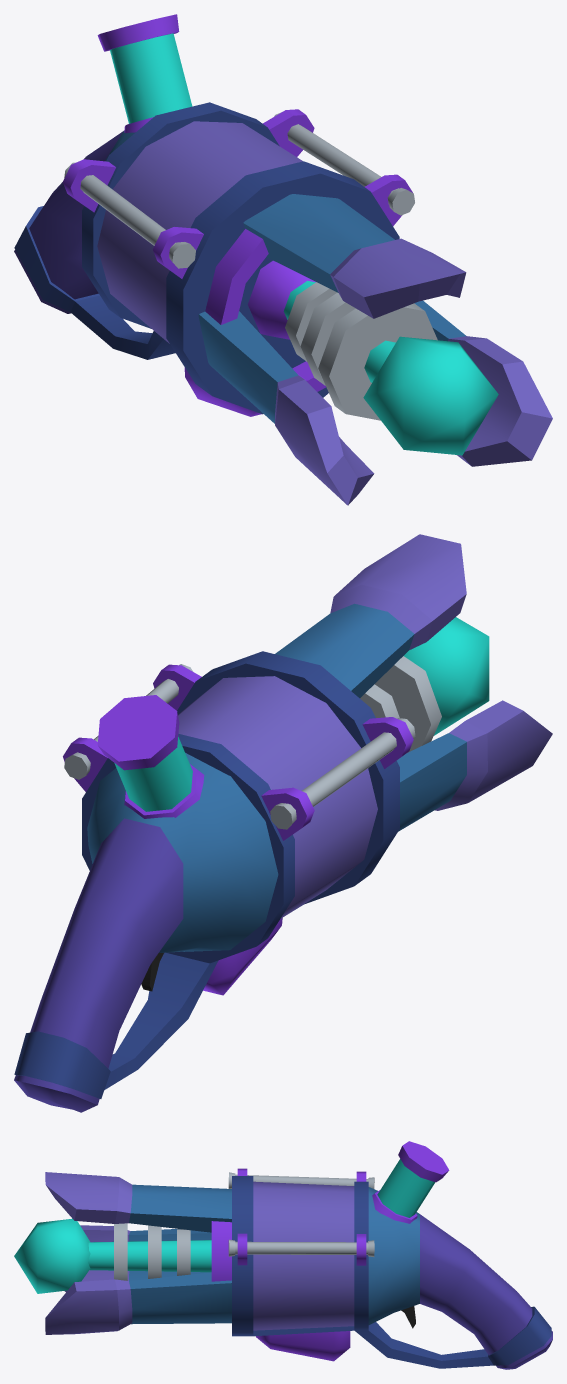
File: pistol.fbx
3 views of the same model, one above another, from view 1: azimuth 30°, elevation 25°; view 2: azimuth 150°, elevation 25°; view 3: azimuth 270°, elevation 25° (orthographic). The views are drawn at different scales.
Visible parts, largest first — view 1: pistol.017; view 2: pistol.017; view 3: pistol.017.
Part boxes in pixels (x1,y1,x2,y2): pistol.017: (14, 14, 552, 505); pistol.017: (14, 534, 552, 1112); pistol.017: (14, 1141, 552, 1369).
Bounding box in the file's own units: 0.1981 × 0.2644 × 0.5813.
